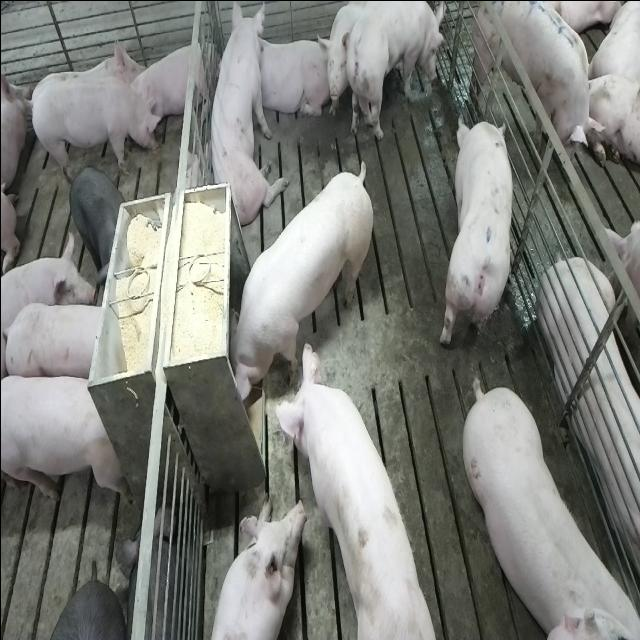Feeding: (270, 326, 443, 634), (219, 160, 369, 410)
Sitting: (204, 4, 282, 232), (328, 1, 446, 144)
Standing: (456, 374, 634, 636), (474, 0, 609, 186), (441, 119, 516, 356), (2, 371, 126, 511), (26, 78, 160, 182), (3, 233, 96, 339), (4, 302, 111, 380), (65, 165, 122, 272)
Sternal_lying: (540, 246, 640, 584), (202, 496, 304, 640), (130, 36, 210, 132), (252, 34, 330, 122)
